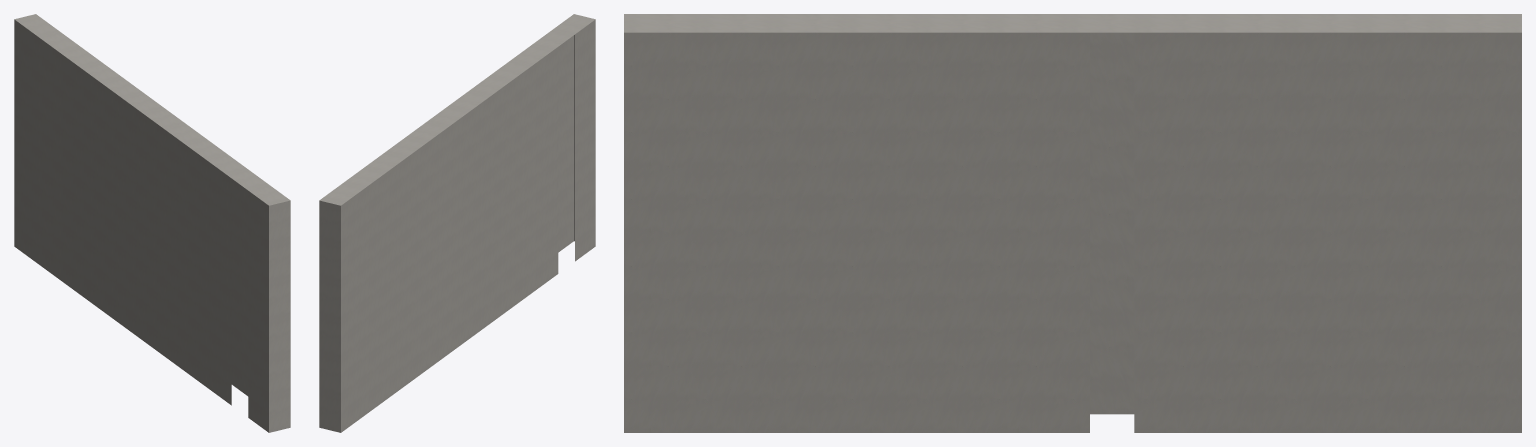
File: fstWallAC.obj
3 views of the same model, side by side, from view 1: azimuth 30°, elevation 25°; view 2: azimuth 150°, elevation 25°; view 3: azimuth 270°, elevation 25° (orthographic). The views are drawn at different scales.
Parts seen in each view (by area): view 1: Box011; view 2: Box011; view 3: Box011.
Part boxes in pixels (bbox=[...]): Box011: bbox=[14, 14, 290, 432]; Box011: bbox=[319, 14, 595, 432]; Box011: bbox=[624, 14, 1521, 432].
Bounding box in the file's own units: 11.81 × 118 × 240.
